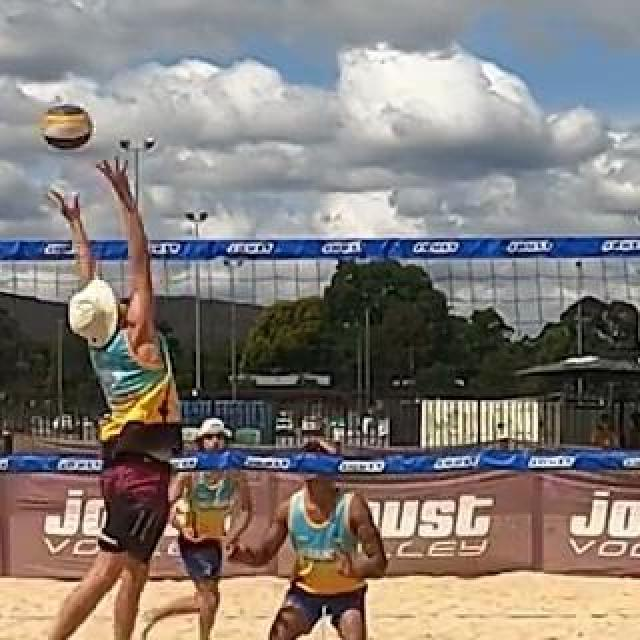volleyball: (42, 103, 94, 151)
